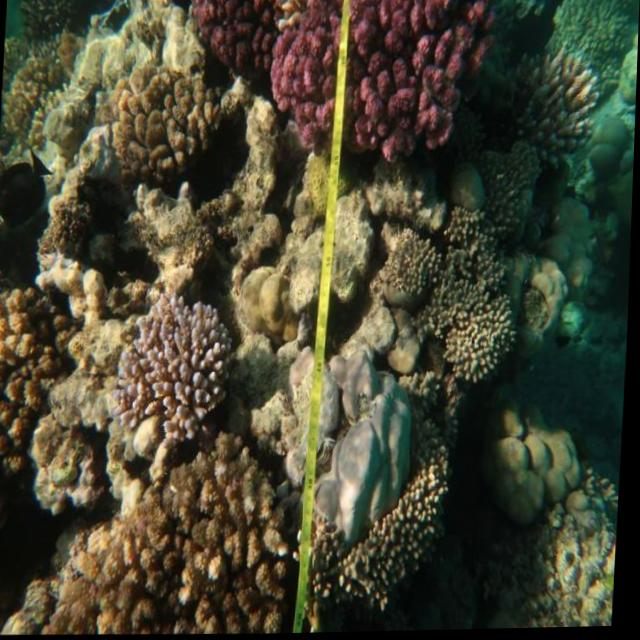Healthy Coral: (10, 435, 303, 640), (259, 0, 498, 169), (107, 286, 243, 437), (114, 66, 243, 193), (178, 0, 279, 95)
